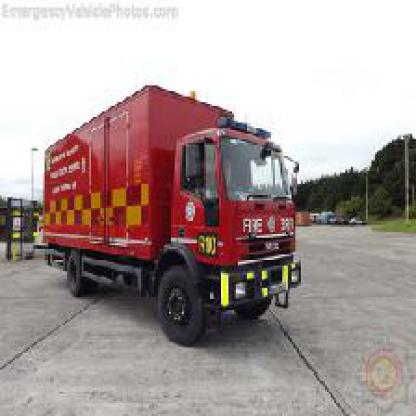emergency: (34, 74, 318, 353)
